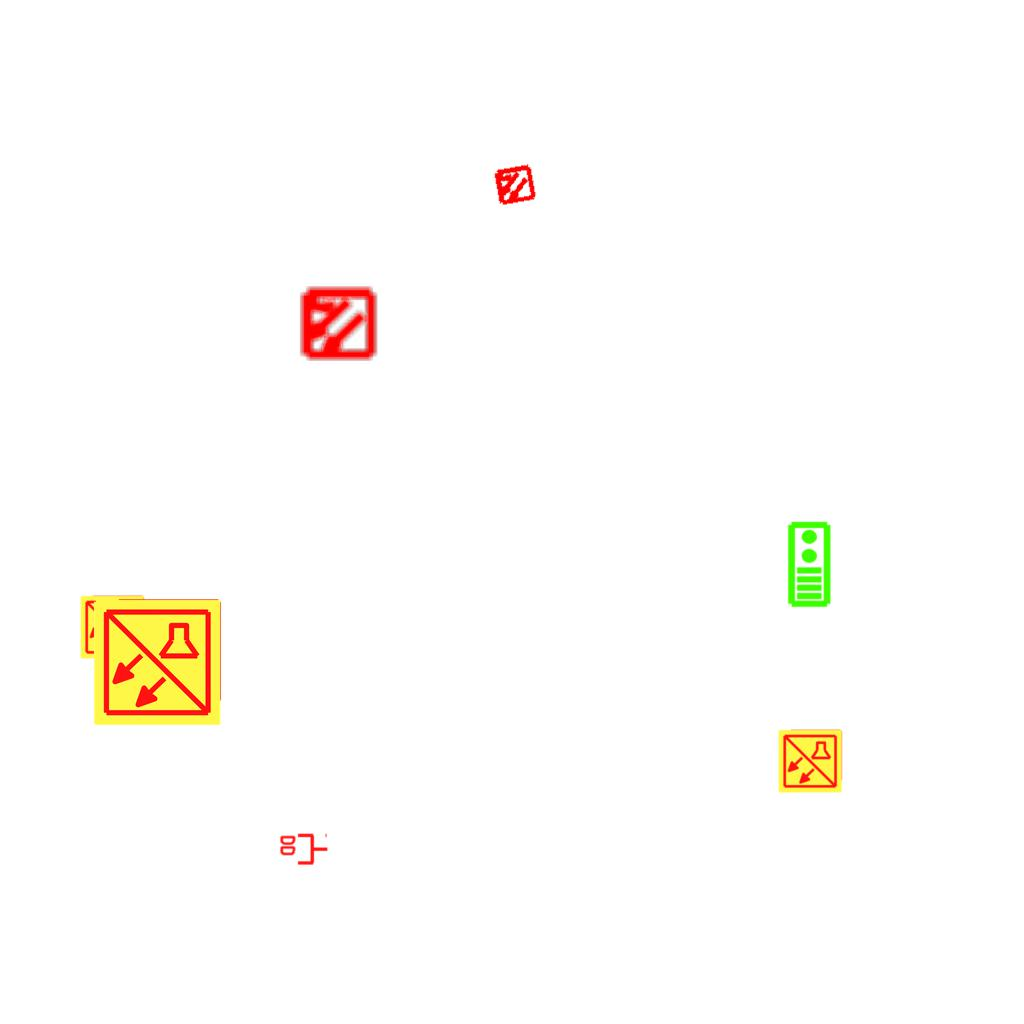Datenanschluss_zweifach: (278, 833, 329, 867)
Gegensprechanlage_mit_Video: (785, 520, 832, 608)
OKW_Multisensormelder_(Kombination_optischer_Rauch-Kahlenmonoxid_Waerme-Melder): (91, 596, 223, 728), (777, 728, 843, 794), (79, 594, 145, 660)
OT_Multisensormelder_(Kombination_RMO_WMD): (280, 267, 393, 380), (481, 152, 547, 218)
